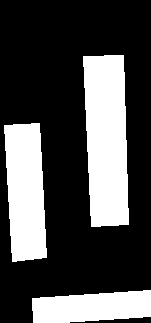parkingspot: (82, 54, 128, 226), (3, 122, 46, 261), (31, 289, 150, 322)
